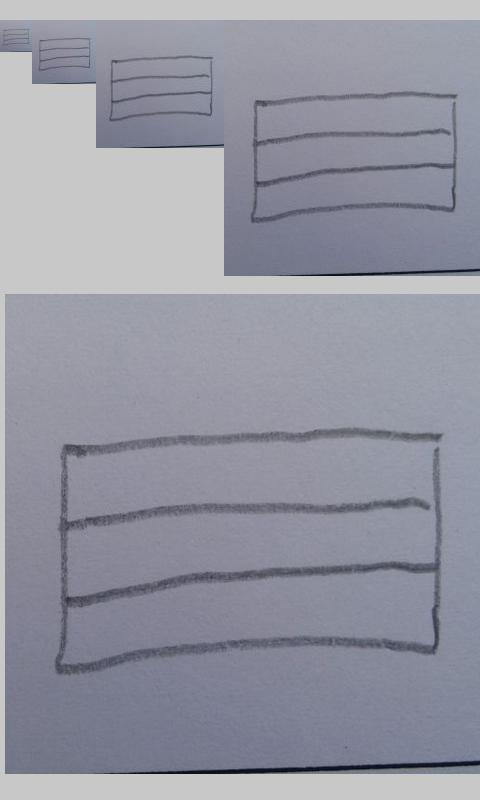list_view: (53, 426, 444, 676), (251, 90, 458, 225), (109, 54, 214, 123), (38, 37, 91, 72), (2, 28, 30, 46)
